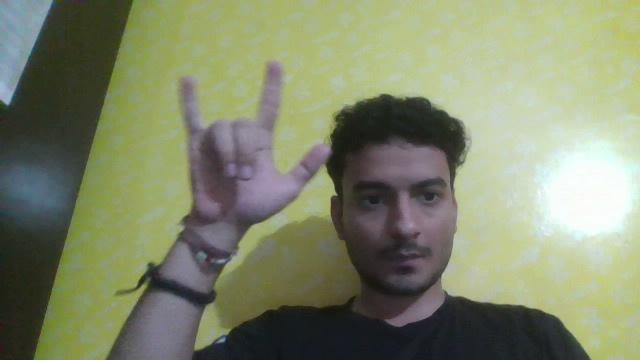Loveyou: (141, 53, 358, 249)
